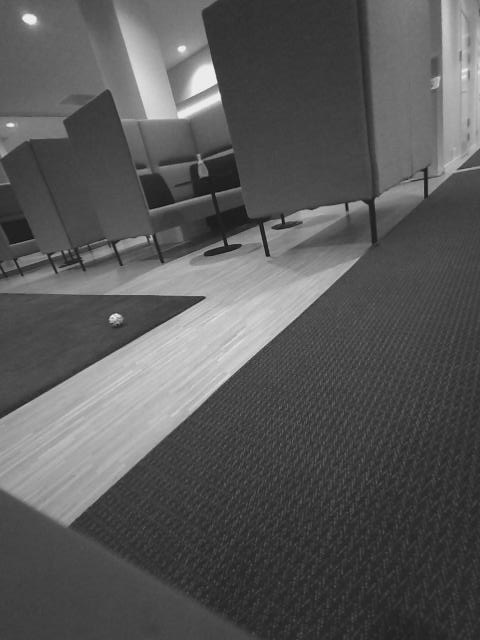dogtoy: (104, 310, 128, 333)
